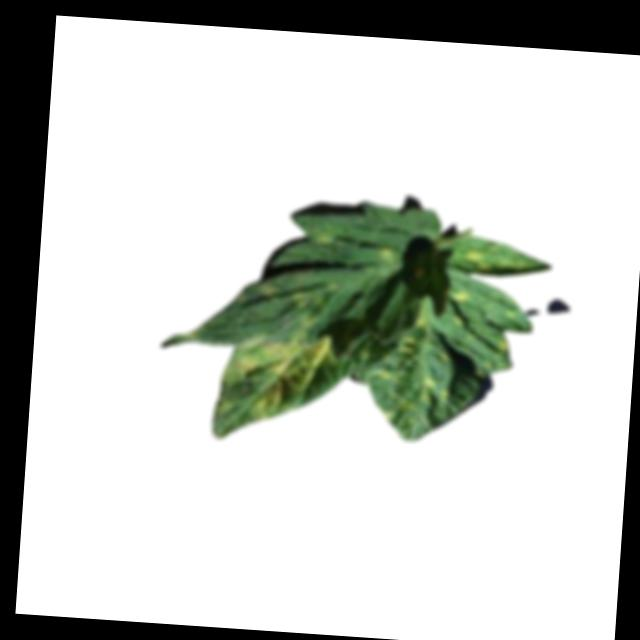Leaf_Mold: (218, 327, 335, 426), (372, 310, 461, 430), (255, 279, 341, 333), (464, 244, 496, 274), (378, 245, 392, 271), (453, 289, 474, 305)
